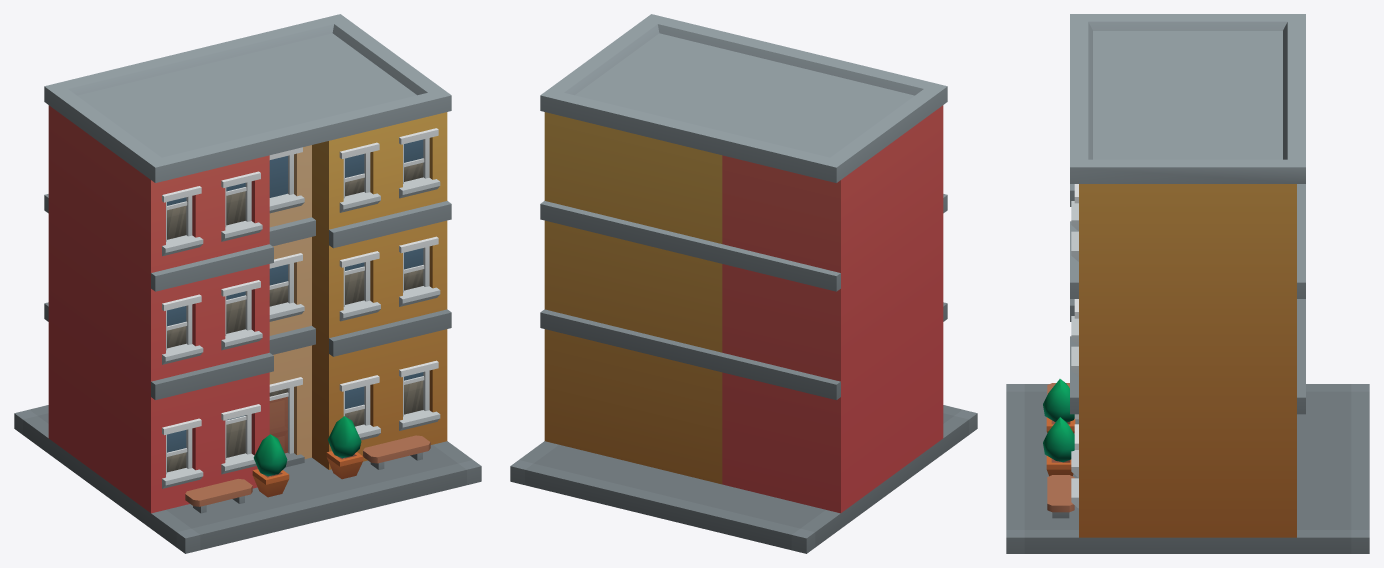
The model's file is Building.glb.
3 renders of one model, left to right at view 1: azimuth 30°, elevation 25°; view 2: azimuth 150°, elevation 25°; view 3: azimuth 270°, elevation 25°, orthographic. The views are drawn at different scales.
Parts seen in each view (by area): view 1: building_F; view 2: building_F; view 3: building_F.
Part boxes in pixels (x1=…): building_F: x1=14, y1=14, x2=481, y2=553; building_F: x1=510, y1=14, x2=977, y2=553; building_F: x1=1006, y1=14, x2=1369, y2=553.
Bounding box in the file's own units: 2 × 2.35 × 2.
1 material, 1 textured.
